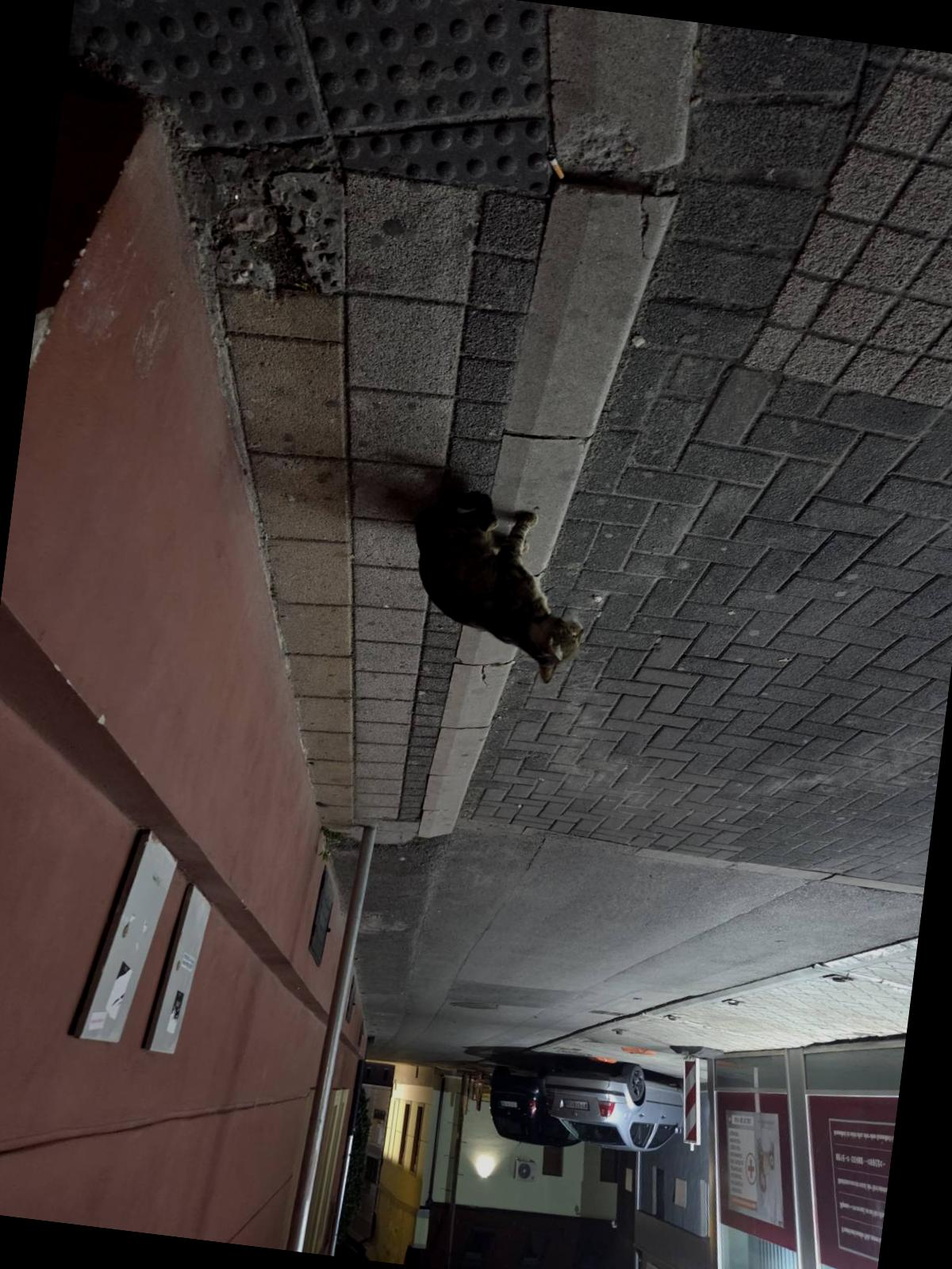macka: (396, 483, 602, 688)
